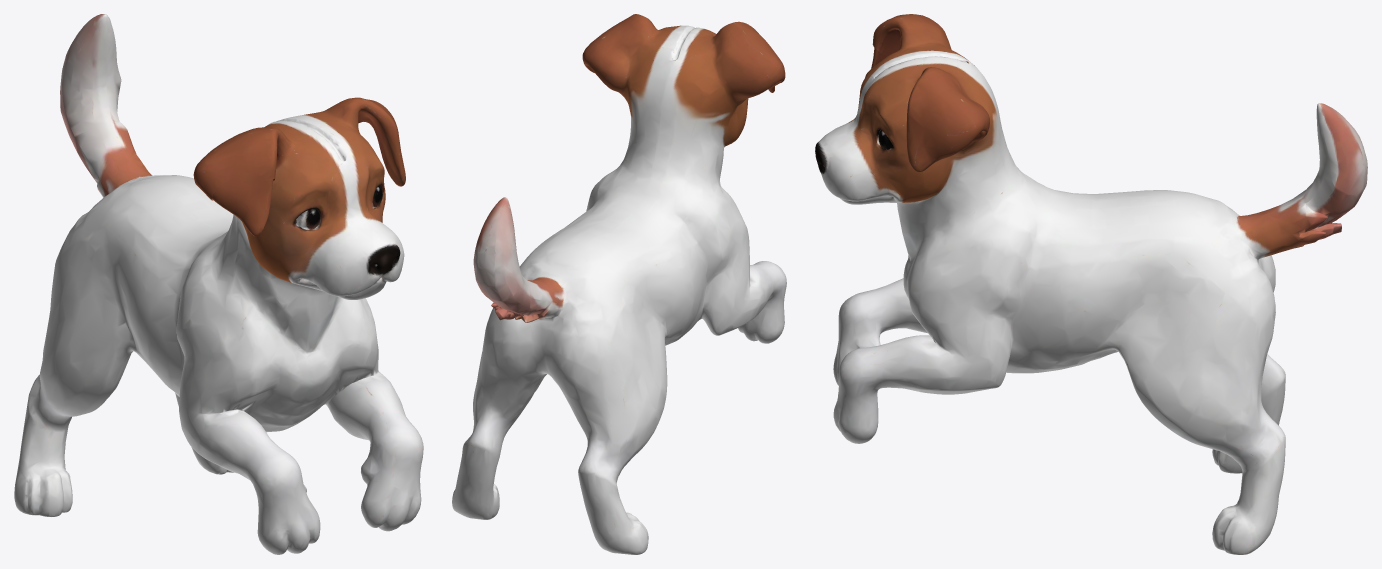
File: detail_3.glb
The picture shows the model from 3 angles, left to right: view 1: azimuth 30°, elevation 25°; view 2: azimuth 150°, elevation 25°; view 3: azimuth 270°, elevation 25°; orthographic projection. The views are drawn at different scales.
Bounding box in the file's own units: 0.4531 × 0.9343 × 1.
Materials: 1 (1 with a texture image).
